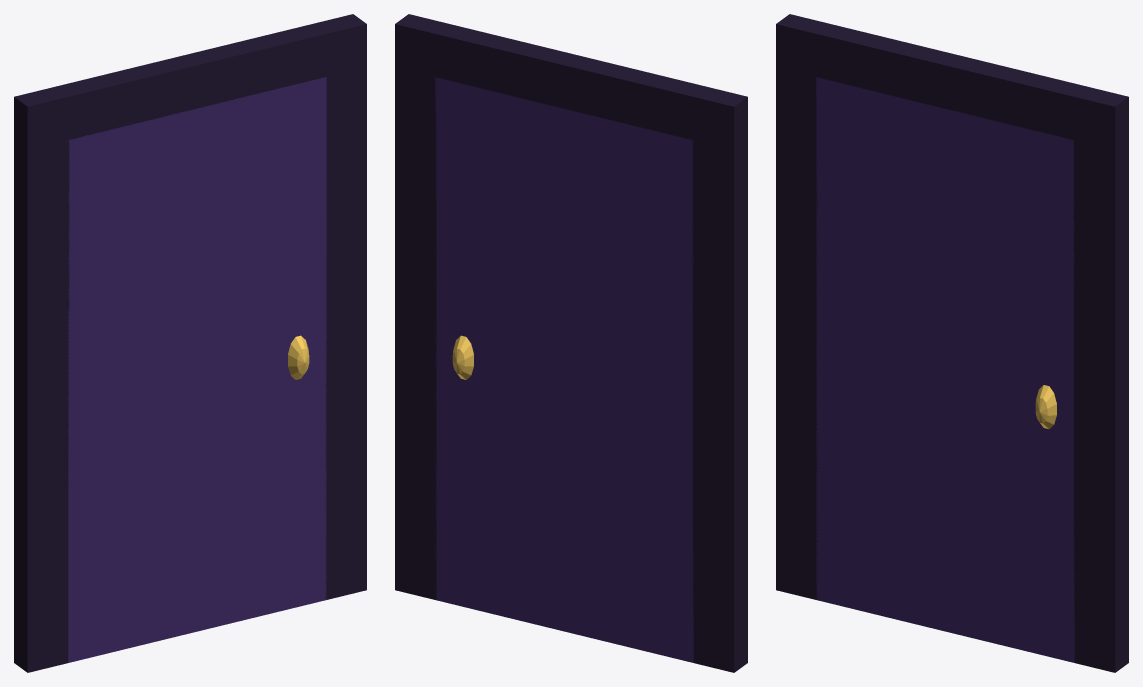
Rendered from porta_completa_cor.gltf.
3 views of the same model, side by side, from view 1: azimuth 30°, elevation 25°; view 2: azimuth 150°, elevation 25°; view 3: azimuth 330°, elevation 25° (orthographic).
Parts seen in each view (by area): view 1: porta, guar_lateral; view 2: porta, guar_lateral; view 3: porta, guar_lateral.
Boxes of the visible parts, x1=… form: porta: x1=68, y1=77, x2=326, y2=662; guar_lateral: x1=14, y1=14, x2=366, y2=672; porta: x1=435, y1=77, x2=693, y2=662; guar_lateral: x1=395, y1=14, x2=747, y2=672; porta: x1=816, y1=77, x2=1074, y2=662; guar_lateral: x1=776, y1=14, x2=1128, y2=672.
Size of the model in its own units: 1.78 by 2.84 by 0.25.
4 materials, 3 textured.
